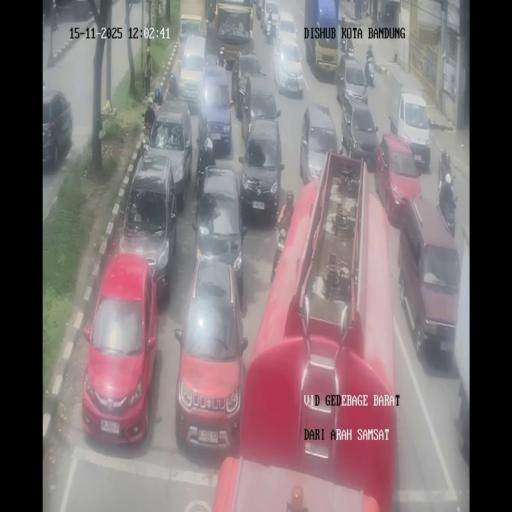3: (452, 224, 469, 451), (304, 0, 340, 78), (214, 0, 253, 67), (71, 0, 93, 20)
car: (81, 250, 160, 444), (173, 260, 247, 454), (396, 200, 459, 361), (118, 155, 180, 299), (192, 166, 246, 296), (238, 117, 283, 224), (388, 91, 430, 171), (300, 103, 338, 187), (199, 64, 233, 151), (341, 97, 380, 168), (42, 88, 74, 170), (178, 37, 207, 107), (231, 53, 263, 112), (274, 37, 304, 96), (335, 55, 368, 107), (276, 9, 297, 46), (253, 0, 263, 19)
truck: (437, 186, 457, 236), (271, 226, 287, 284), (438, 150, 454, 192), (340, 26, 354, 54), (365, 54, 375, 85), (143, 114, 154, 141), (168, 72, 179, 98), (216, 47, 226, 69), (265, 18, 273, 44), (154, 83, 162, 105), (361, 1, 369, 17)
